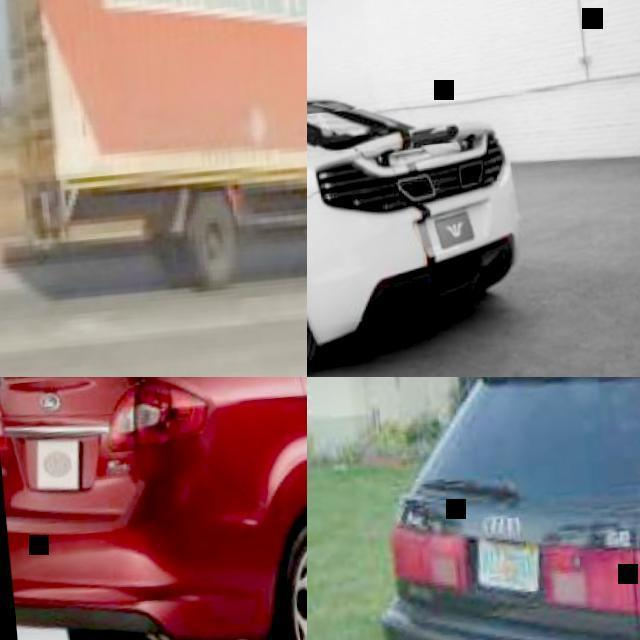car: (307, 13, 523, 364)
